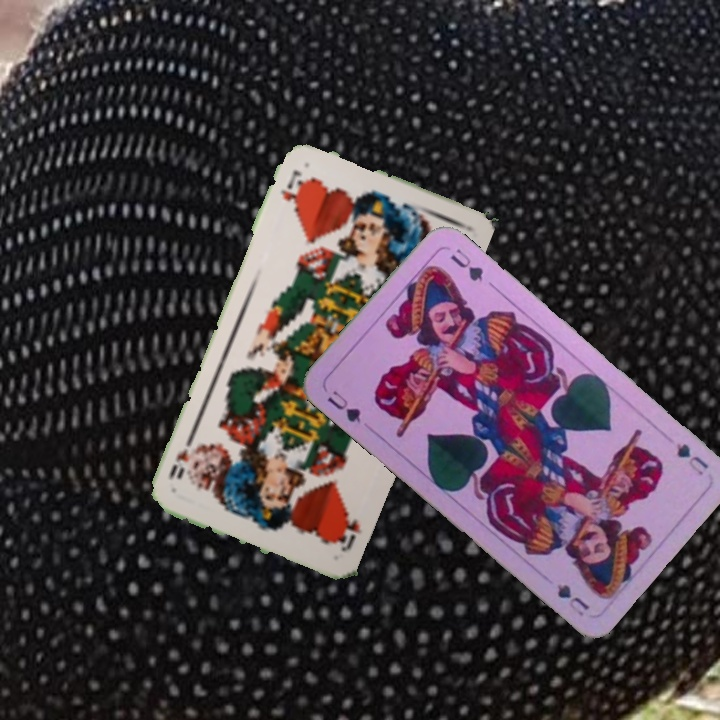GU: (323, 386, 364, 427), (672, 439, 712, 479)
HO: (332, 508, 364, 554), (276, 165, 305, 206)
